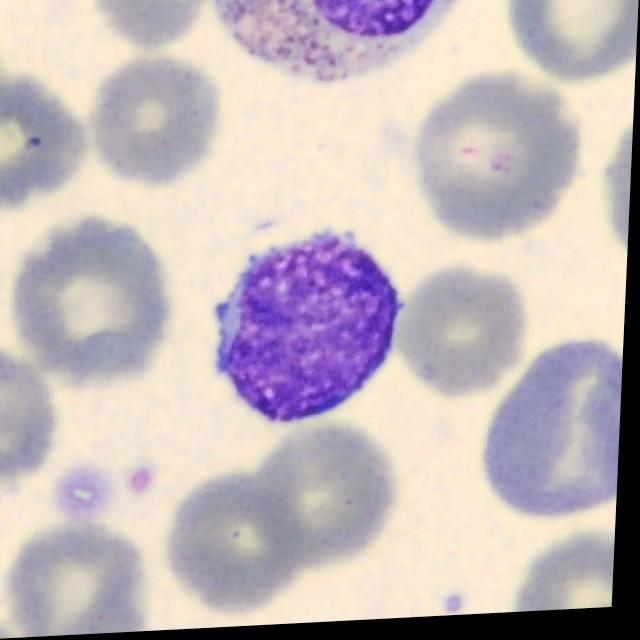Linfocito: (219, 236, 405, 429)
